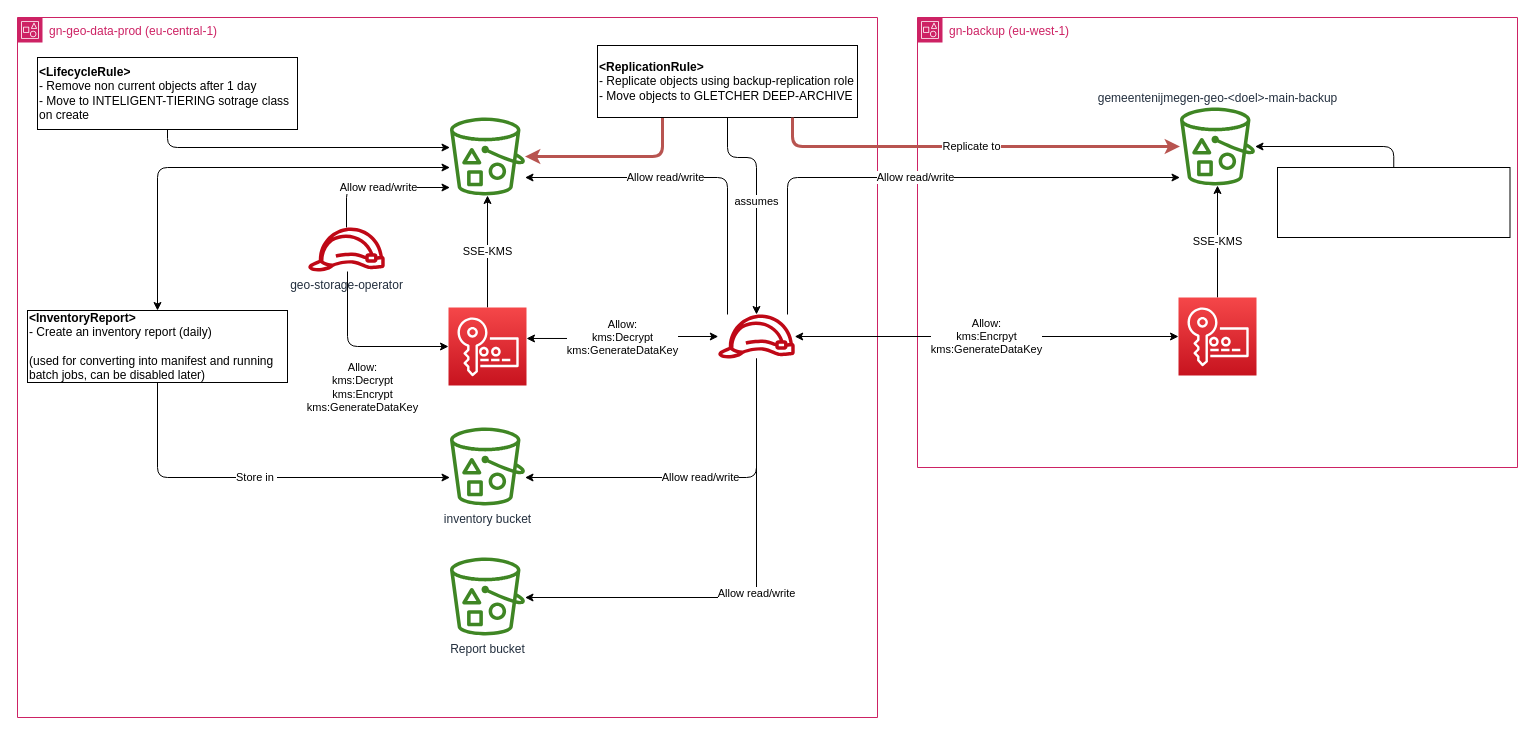
Some shapes in this 1535 by 735 pixel diagram are drawn without their labels. Here are the shapes that lost their labels. From the top down, the centre of each, then its label:
the point at 487,156: gemeentenijmegen-geo-<doel>-main
the point at 1393,202: <LifecycleRule> - Remove noncurrent objects after 7 days
the point at 487,346: KMS key
the point at 756,336: backup-replication-role
the point at 1217,336: KMS key backup
